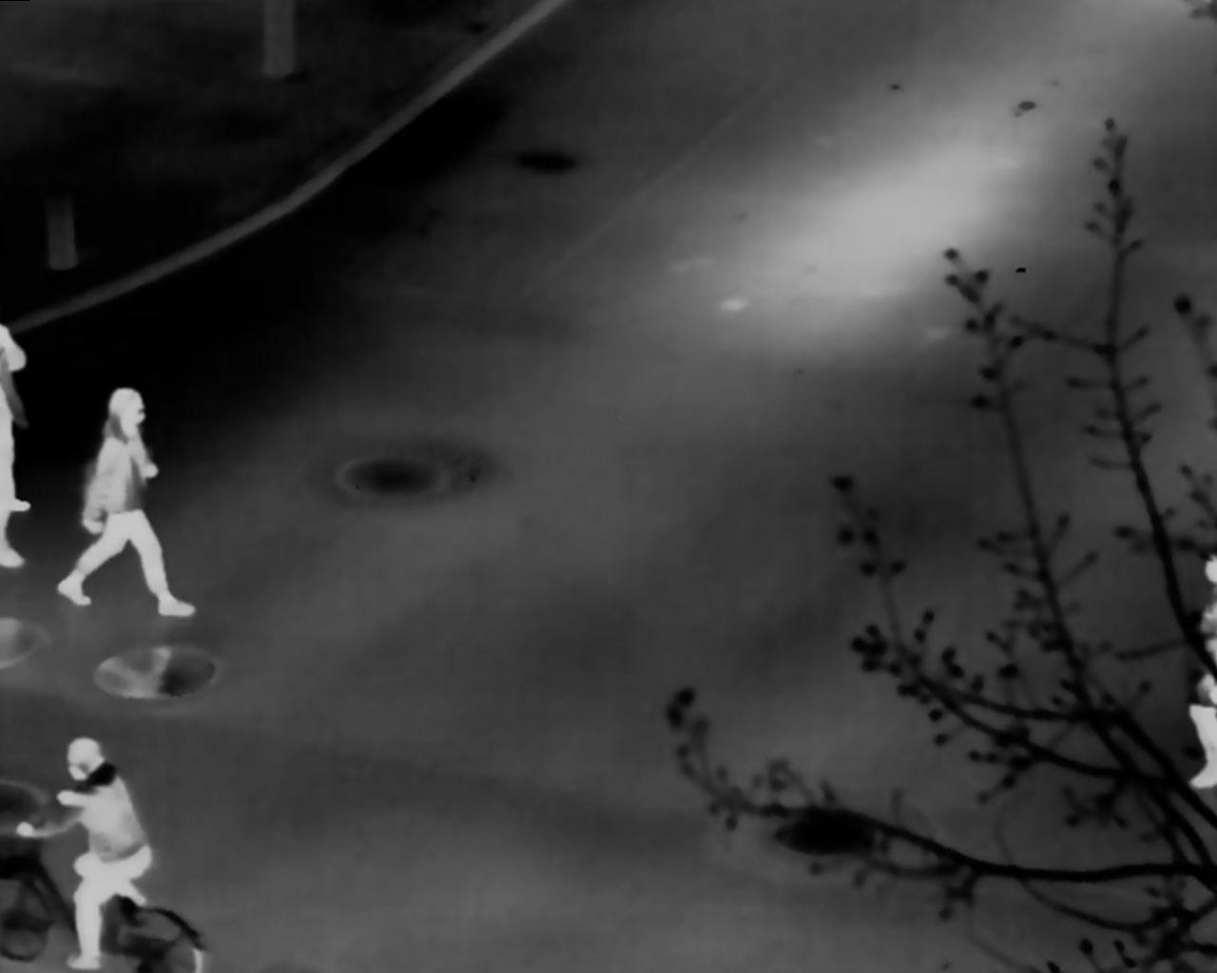person: (12, 735, 152, 971), (57, 386, 196, 618)
